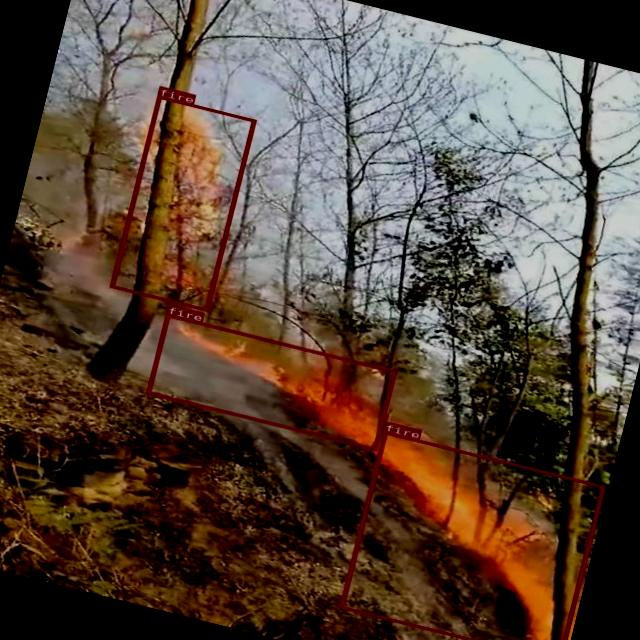fire: (338, 430, 603, 640), (145, 312, 395, 450), (108, 94, 255, 311)
